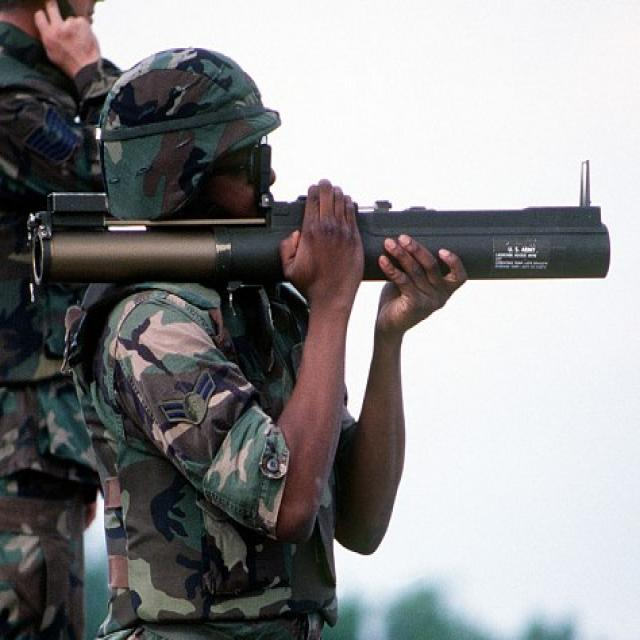bazooka: (32, 177, 630, 318)
